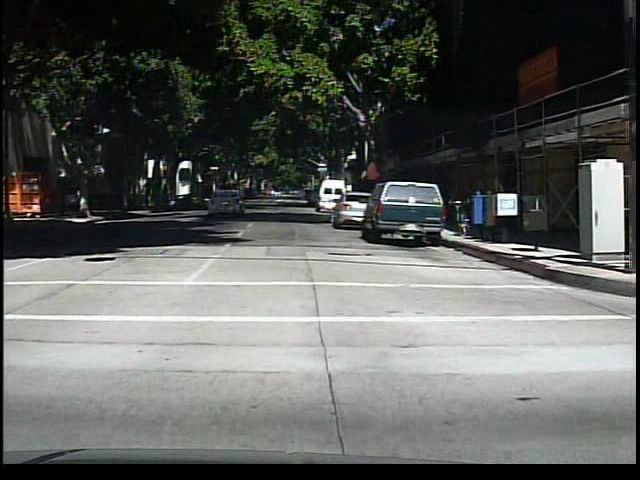person: (66, 184, 82, 220)
